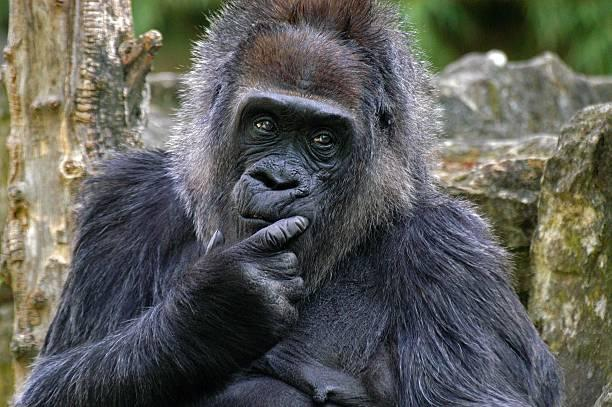gorille_Autres: (49, 0, 533, 407)
